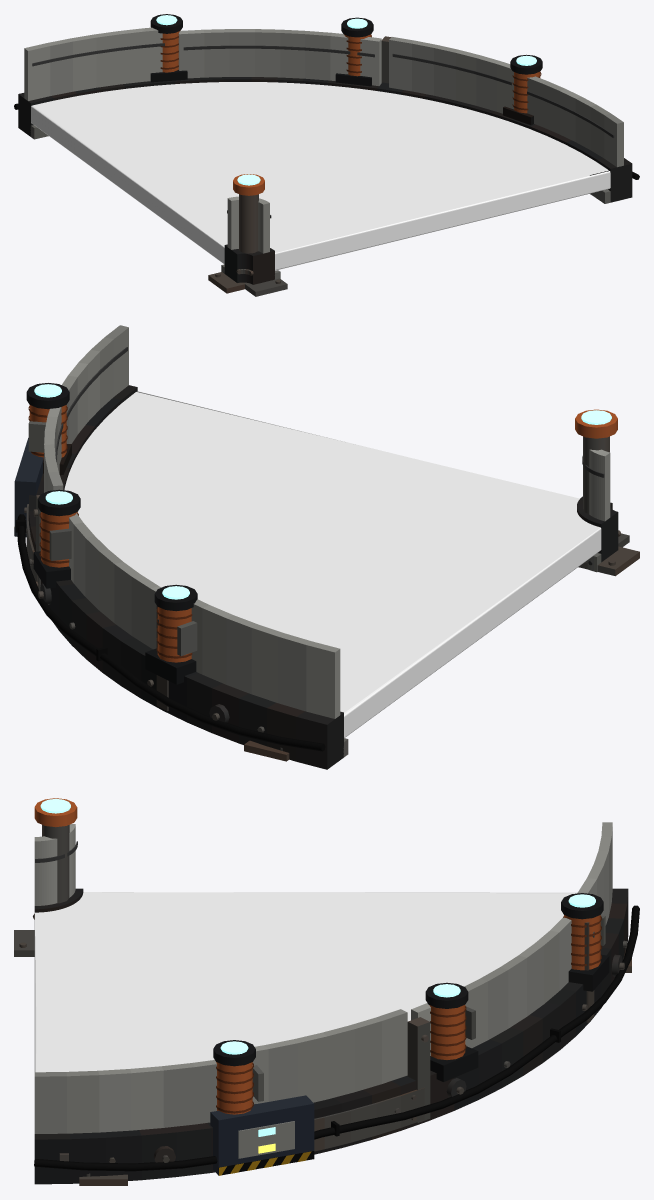
Rendered from conveyor_mag_turn_left.glb.
The picture shows the model from 3 angles, top to bottom: view 1: azimuth 30°, elevation 25°; view 2: azimuth 150°, elevation 25°; view 3: azimuth 270°, elevation 25°; orthographic projection. The views are drawn at different scales.
Parts seen in each view (by area): view 1: Belt, Frame, Glow; view 2: Belt, Frame, Glow; view 3: Frame, Belt, Glow.
Part boxes in pixels (x1,y1,x2,y2): Belt: [31, 82, 610, 270]; Frame: [14, 14, 639, 296]; Glow: [156, 15, 536, 185]; Belt: [64, 391, 601, 738]; Frame: [14, 325, 639, 769]; Glow: [34, 384, 611, 599]; Frame: [14, 798, 639, 1185]; Belt: [34, 892, 576, 1072]; Glow: [40, 798, 595, 1136].
Bounding box in the file's own units: 2.06 × 0.497 × 2.06.
